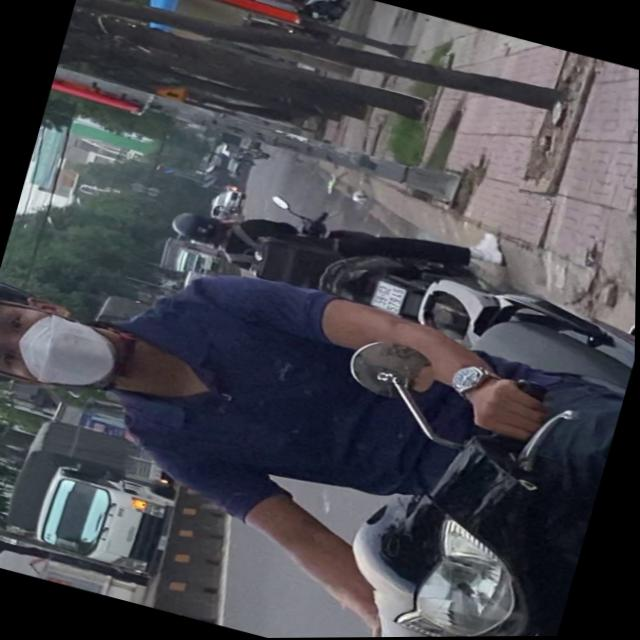helmet: (165, 206, 229, 251)
licenseplate: (0, 184, 638, 640), (154, 168, 520, 349)
nohelmet: (368, 281, 403, 313)
